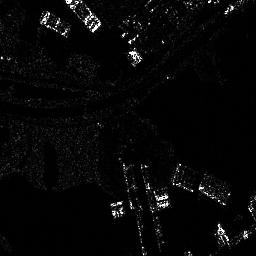ship: (36, 8, 71, 37)
